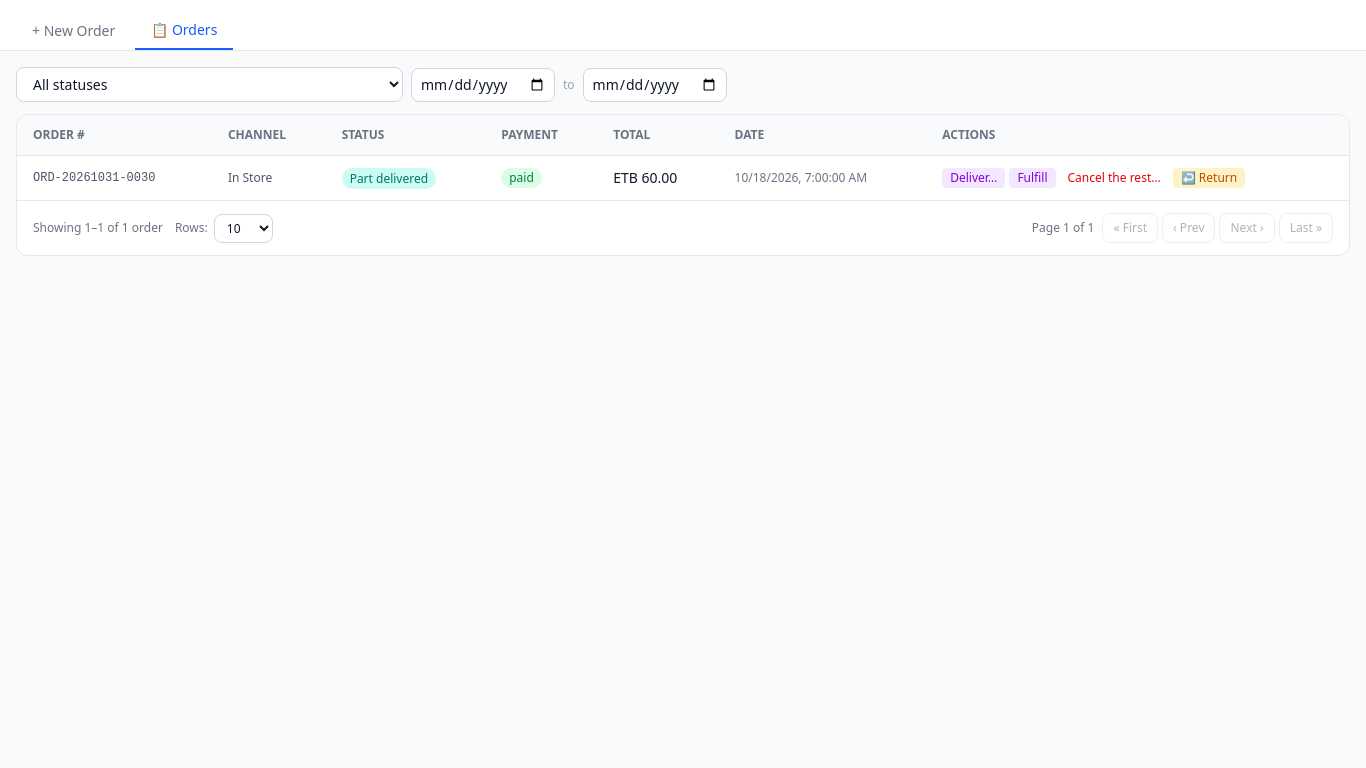
Test: Delivering an order in parts, and cancelling the rest (#174) › shows a part-delivered order, its deliveries and what each line delivered, waits for and cancelled
The width and height of the screenshot is (1366, 768).
Click the button "📋 Orders" at coordinates (184, 31), box [135,12,233,50]
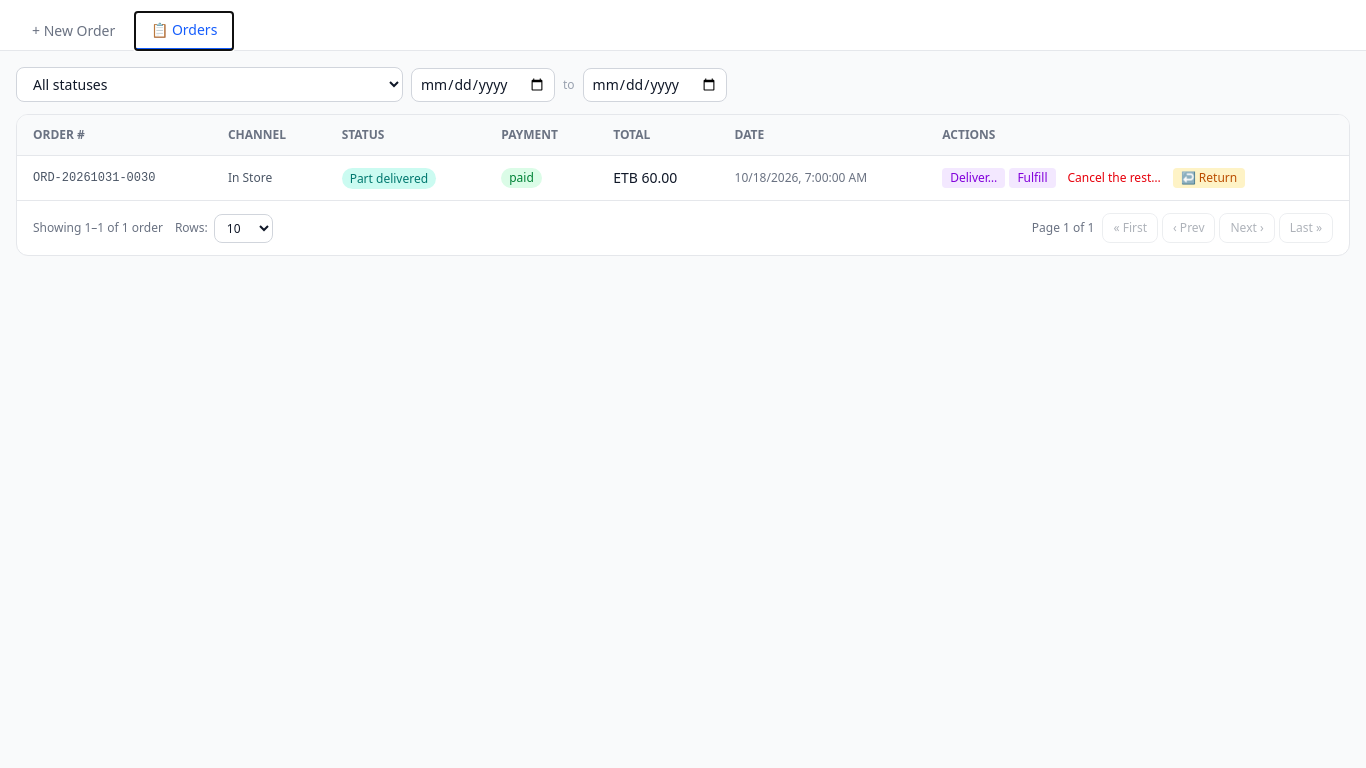
Expected: the text "Part delivered" is shown, [342,168,436,189]
Click the text "ORD-20261031-0030" at coordinates (114, 178), box [17,156,212,200]
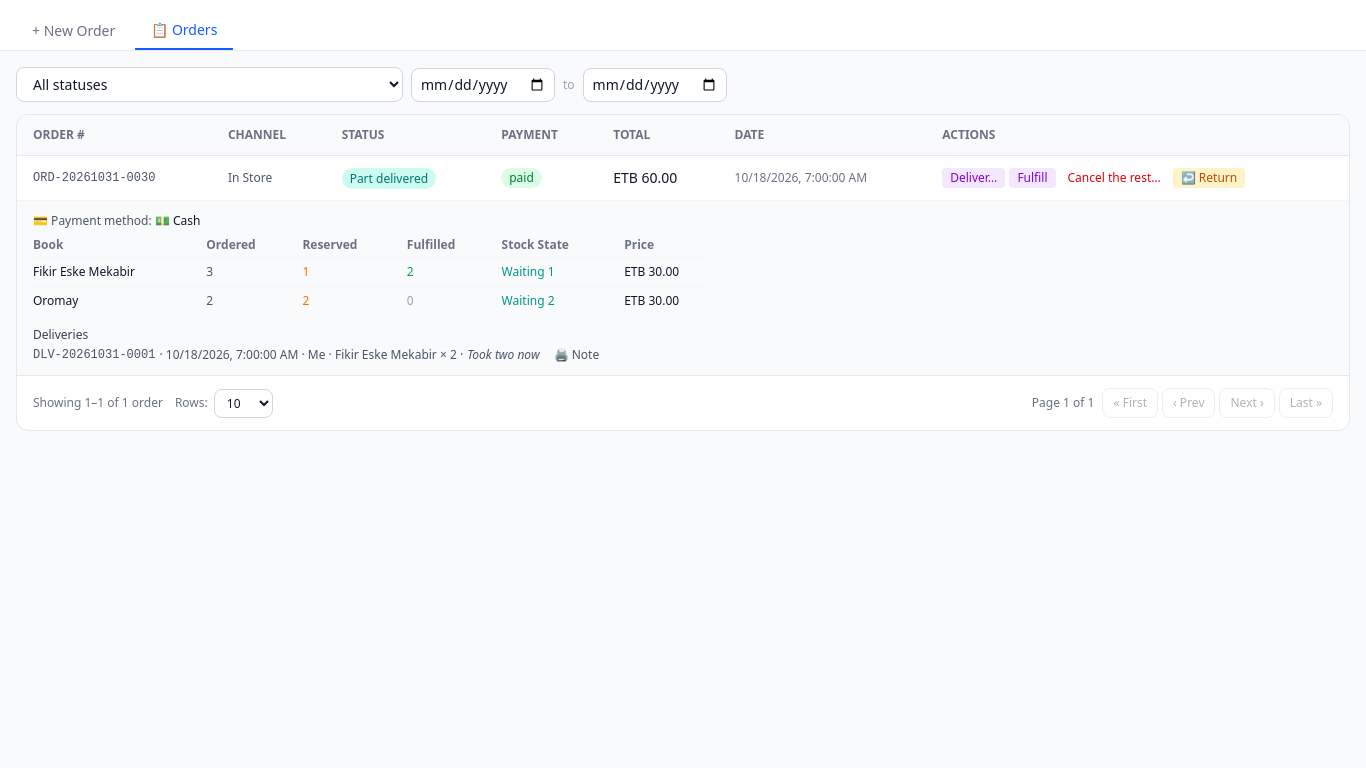
Now the row "Fikir Eske Mekabir 3 1 2 Waiting 1 ETB 30.00" is shown, box [33,258,705,286]
Now the text "DLV-20261031-0001" is shown, box [33,347,155,363]
Click the button with aria-label "Delivery note DLV-20261031-0001" at coordinates (576, 355), box [548,347,605,363]
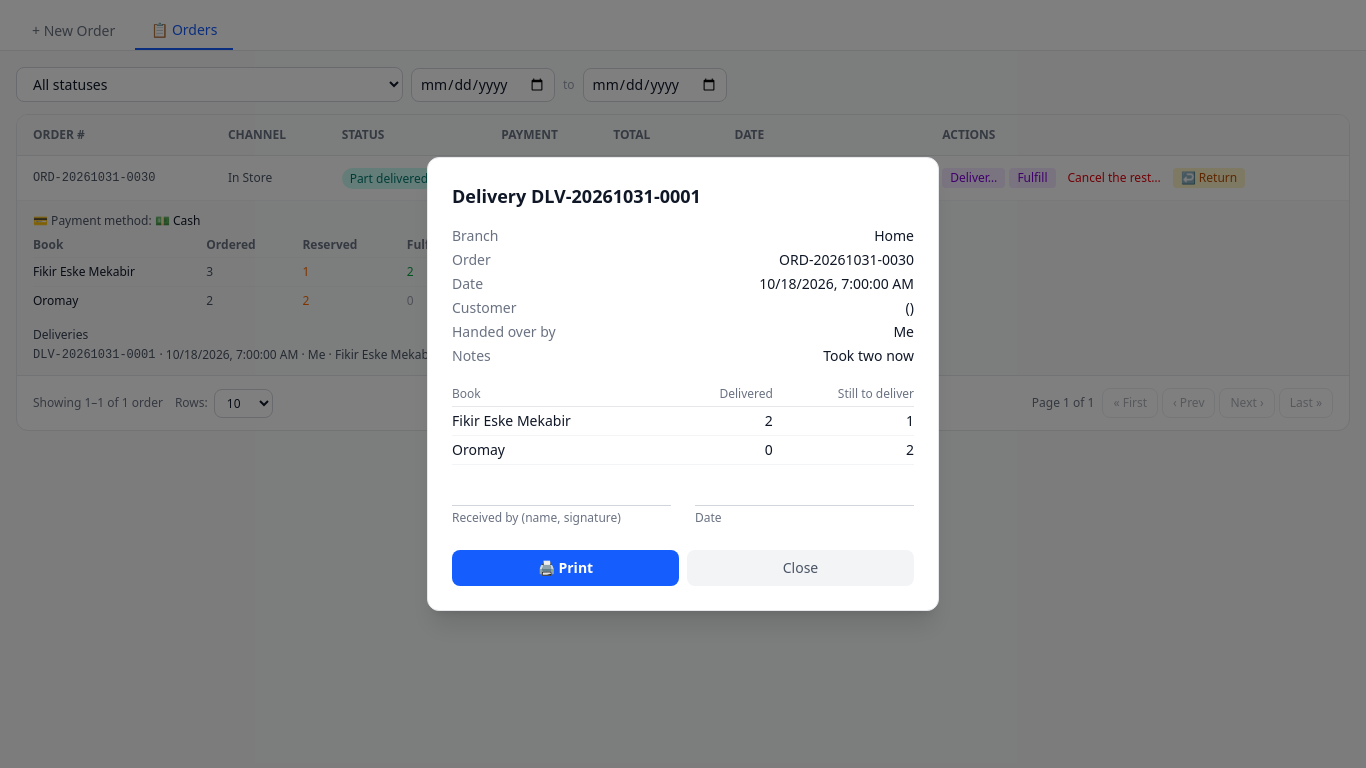
Now the dialog "Delivery DLV-20261031-0001" is shown, box [427,157,939,611]
